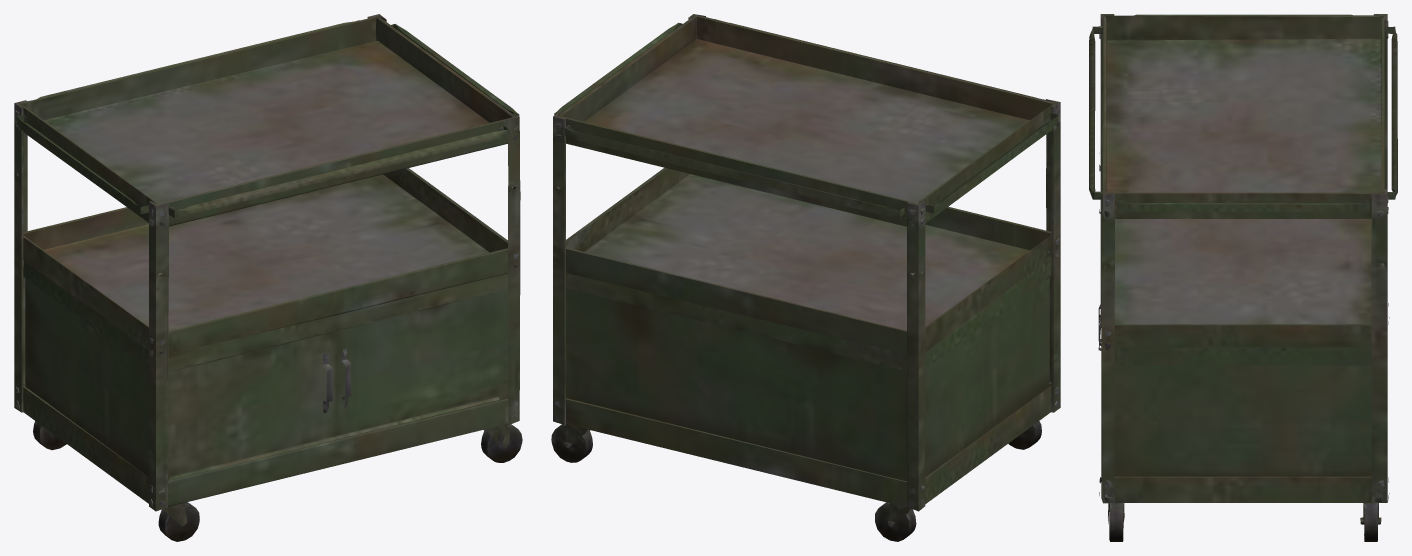
The model's file is storage_cart.glb.
3 views of the same model, side by side, from view 1: azimuth 30°, elevation 25°; view 2: azimuth 150°, elevation 25°; view 3: azimuth 270°, elevation 25° (orthographic).
Visible parts, largest first — view 1: mesh; view 2: mesh; view 3: mesh.
Boxes of the visible parts, x1,y1,x2,y2 form: mesh: [14, 14, 522, 541]; mesh: [551, 14, 1060, 541]; mesh: [1089, 14, 1397, 541].
Size of the model in its own units: 1.6 by 1.38 by 1.1.
1 material, 1 textured.
